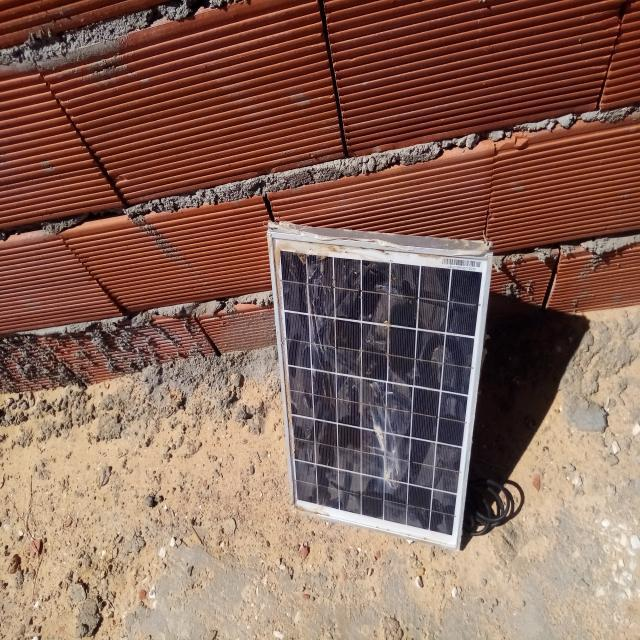faulty: (270, 236, 491, 549)
